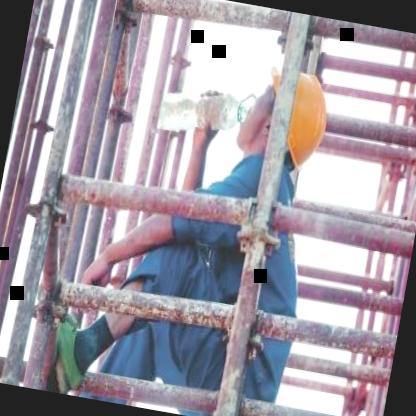helmet: (228, 54, 336, 180)
